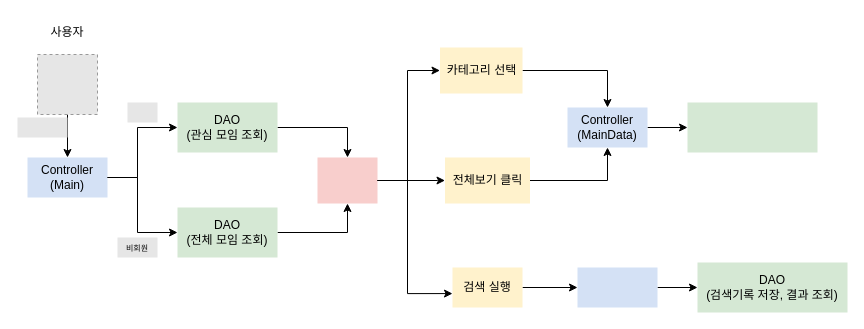
Image size: 864x329. Some labels were removed from this diagram. Grey dashed boxes stand in for pictures. Each missing label, with the centre of its shape:
Controller (SearchData): [617,287]
DAO (카테고리별 모임 조회): [752,127]
메인화면: [347,180]
사이트 접속: [42,127]
회원: [142,112]
